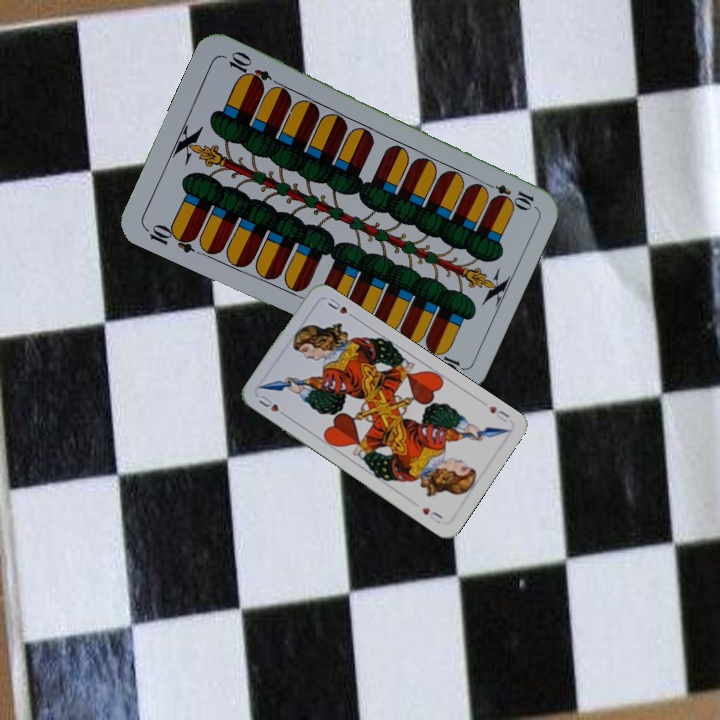E10: (141, 219, 199, 256), (479, 178, 537, 211)
HU: (254, 391, 290, 420), (484, 402, 512, 425)
